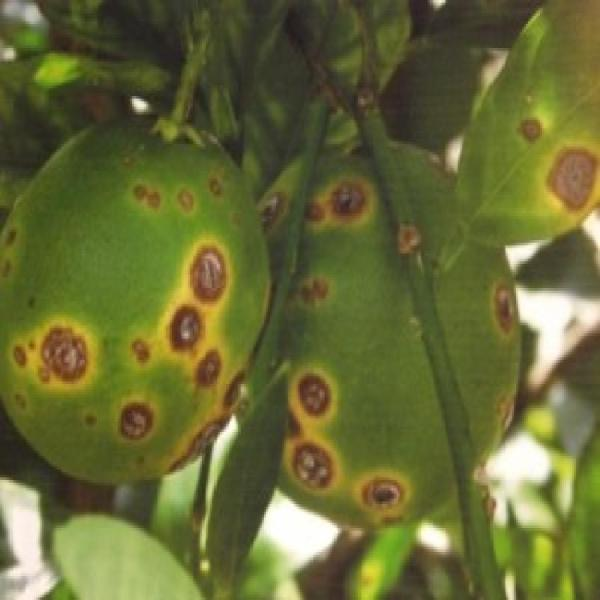Trips: (241, 113, 526, 516), (0, 99, 296, 481)
